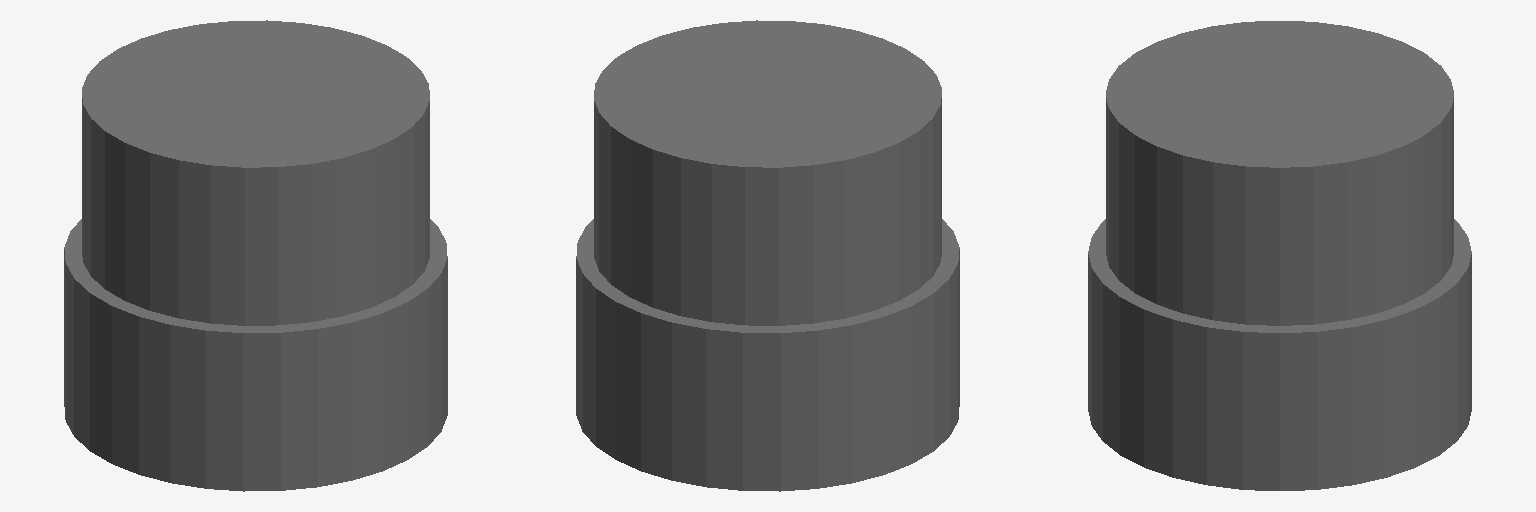
The robot description file, URDF, robot "size_adapter_module":
<?xml version="1.0" ?>
<robot name="size_adapter_module" xmlns:xacro="http://ros.org/wiki/xacro">
    <material name="blue">
        <color rgba="0 0 0.8 1"/>
    </material>
    <material name="black">
        <color rgba="0 0 0 1"/>
    </material>
    <material name="white">
        <color rgba="1 1 1 1"/>
    </material>
    <material name="grey">
        <color rgba="0.5 0.5 0.5 1"/>
    </material>
    <link name="base_link">
        <visual>
        <origin rpy = "0 0 0" xyz = "0 0 0"/>
        </visual>
    </link>
    <joint name="fixed" type="fixed">
        <parent link="base_link"/>
        <child link="link_0"/>
        <axis rpy="0 0 0" xyz="0 0 1"/>
        <origin rpy="0.0 0.0 0.0" xyz="0.0 0.0 0.0"/>
    </joint>
    <link name="link_0">
    <visual>
      <origin rpy="0 0 0" xyz="0 0 0.025"/>
      <geometry>
        <cylinder length="0.05" radius="0.055"/>
      </geometry>
      <material name="grey"/>
    </visual>
    <visual>
      <origin rpy="0 0 0" xyz="0 0 0.075"/>
      <geometry>
        <cylinder length="0.05" radius="0.05"/>
      </geometry>
      <material name="grey"/>
    </visual>
    <collision>
      <origin rpy="0 0 0" xyz="0 0 0.025"/>
      <geometry>
        <cylinder length="0.05" radius="0.055"/>
      </geometry>
    </collision>
    <collision>
      <origin rpy="0 0 0" xyz="0 0 0.075"/>
      <geometry>
        <cylinder length="0.05" radius="0.05"/>
      </geometry>
    </collision>
    <inertial>
      <origin rpy="0 0 0" xyz="0 0 0.05"/>
      <mass value="1"/>
      <inertia ixx="0.00108541666667" ixy="0.0" ixz="0.0" iyy="0.00108541666667" iyz="0.0" izz="0.000504166666667"/>
    </inertial>
  </link>
  <gazebo reference="link_0">
    <mu1>0.2</mu1>
    <mu2>0.2</mu2>
    <kp>1000000.0</kp>
    <kd>1.0</kd>
    <maxVel>0.0</maxVel>
    <minDepth>0.0001</minDepth>
    <material>Gazebo/Grey</material>
  </gazebo>
</robot>

--- Render facts (derived) ---
The picture shows the robot from 3 angles, left to right: view 1: azimuth 30°, elevation 25°; view 2: azimuth 150°, elevation 25°; view 3: azimuth 270°, elevation 25°; orthographic projection.
Robot: size_adapter_module — 2 links, 1 joints (1 fixed); root link base_link; default pose: every joint at zero.
Visible links, largest first — view 1: link_0; view 2: link_0; view 3: link_0.
Link boxes in pixels (x1,y1,x2,y2): link_0: [64, 20, 447, 491]; link_0: [576, 20, 959, 491]; link_0: [1088, 21, 1471, 490].
Bounding box of the posed robot: 0.11 × 0.11 × 0.1 m (x, y, z).
Geometry: primitives only (box / cylinder / sphere), no mesh files.